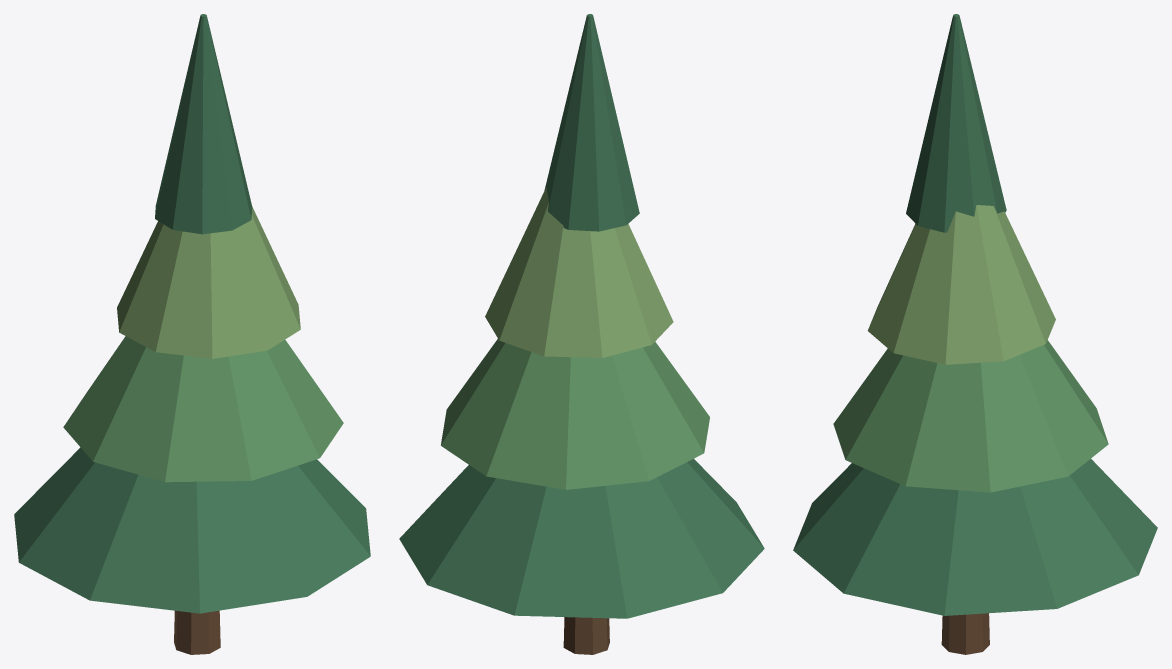
Rendered from pine_1.fbx.
3 renders of one model, left to right at view 1: azimuth 30°, elevation 25°; view 2: azimuth 150°, elevation 25°; view 3: azimuth 270°, elevation 25°, orthographic.
Visible parts, largest first — view 1: pine_1; view 2: pine_1; view 3: pine_1.
Part boxes in pixels (x1,y1,x2,y2): pine_1: (14, 14, 370, 654); pine_1: (399, 14, 764, 654); pine_1: (793, 14, 1157, 654).
Bounding box in the file's own units: 452 × 865 × 454.
